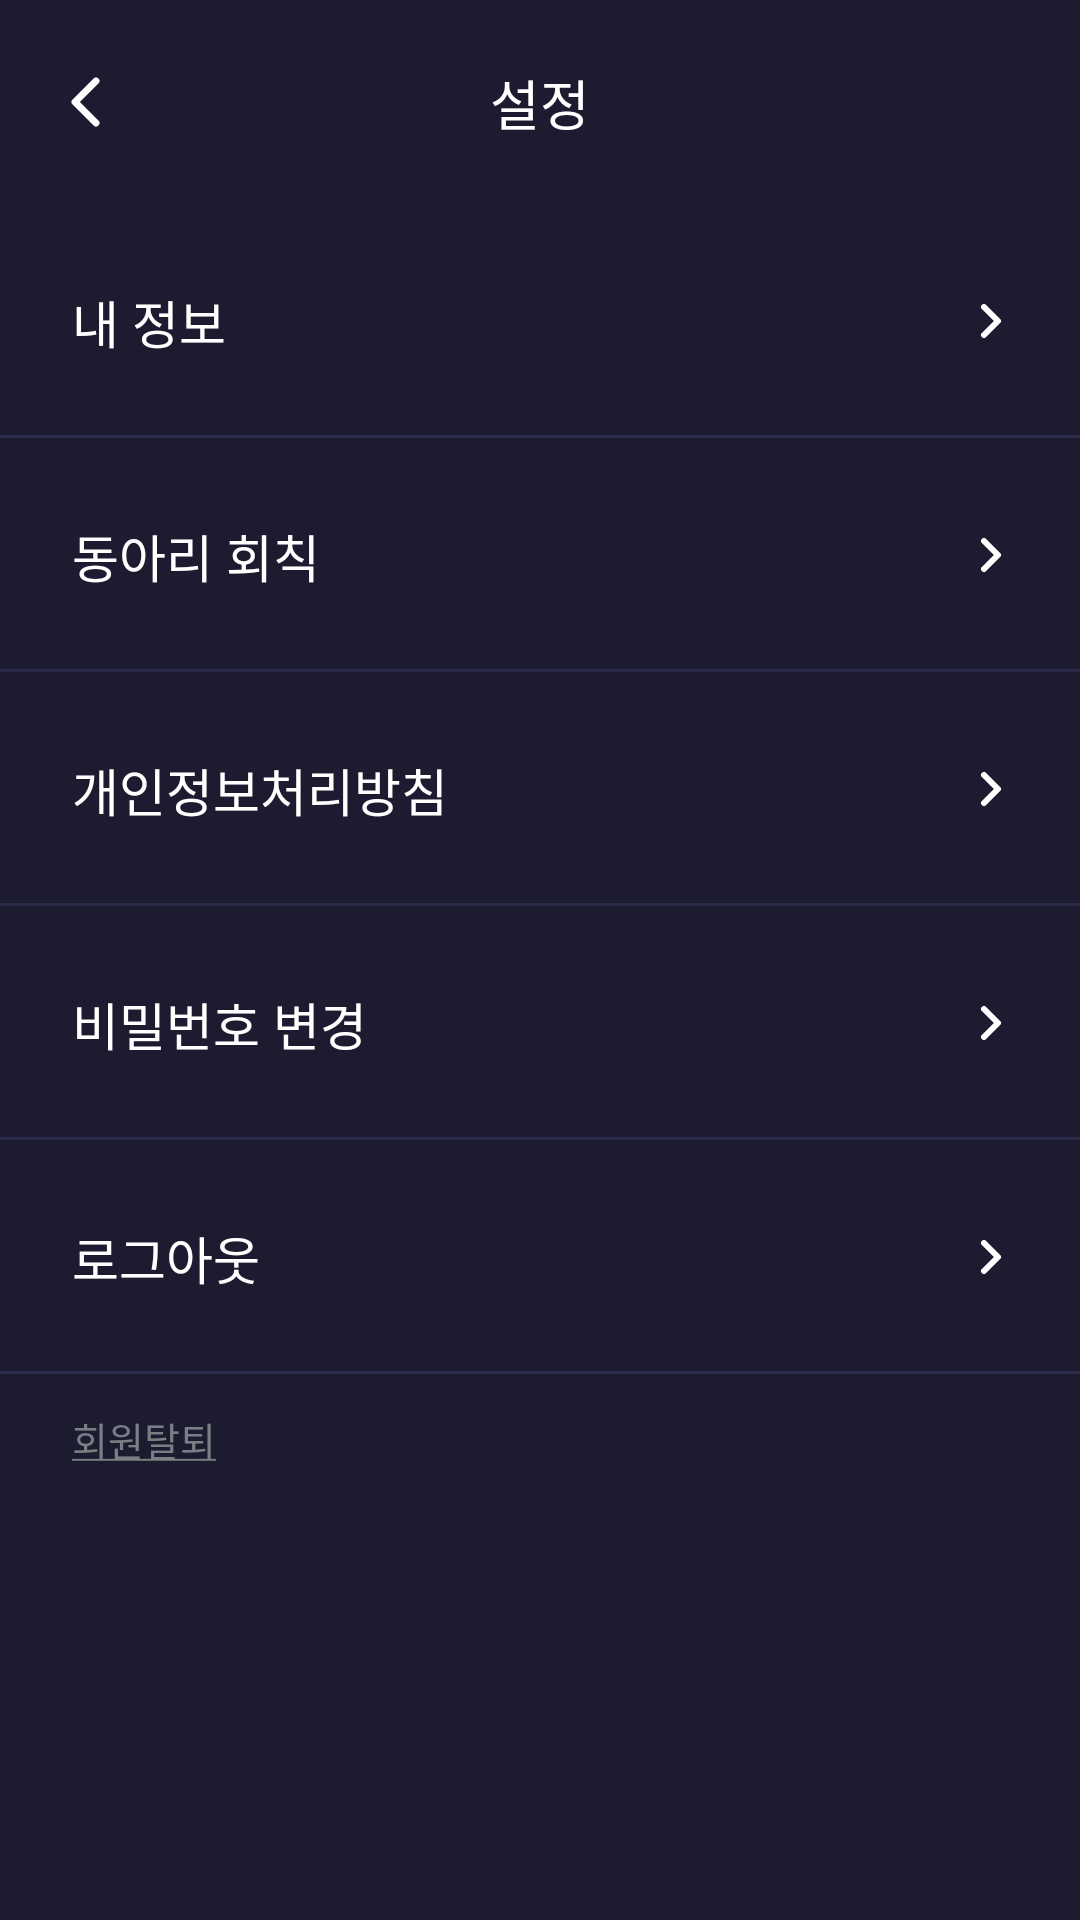

Icon click points for this 1080w x 1920h phone screenshot, format (x,y):
arrow left: (85,102)
arrow right: (991,321), (991,555), (991,789), (991,1023), (991,1257)
